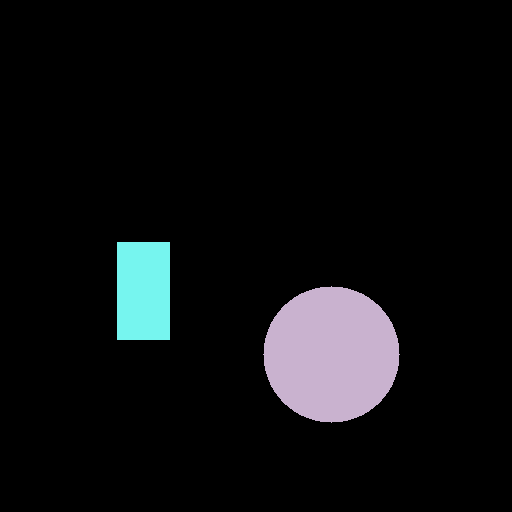circle: (263, 286, 399, 422)
rectangle: (117, 242, 169, 339)
